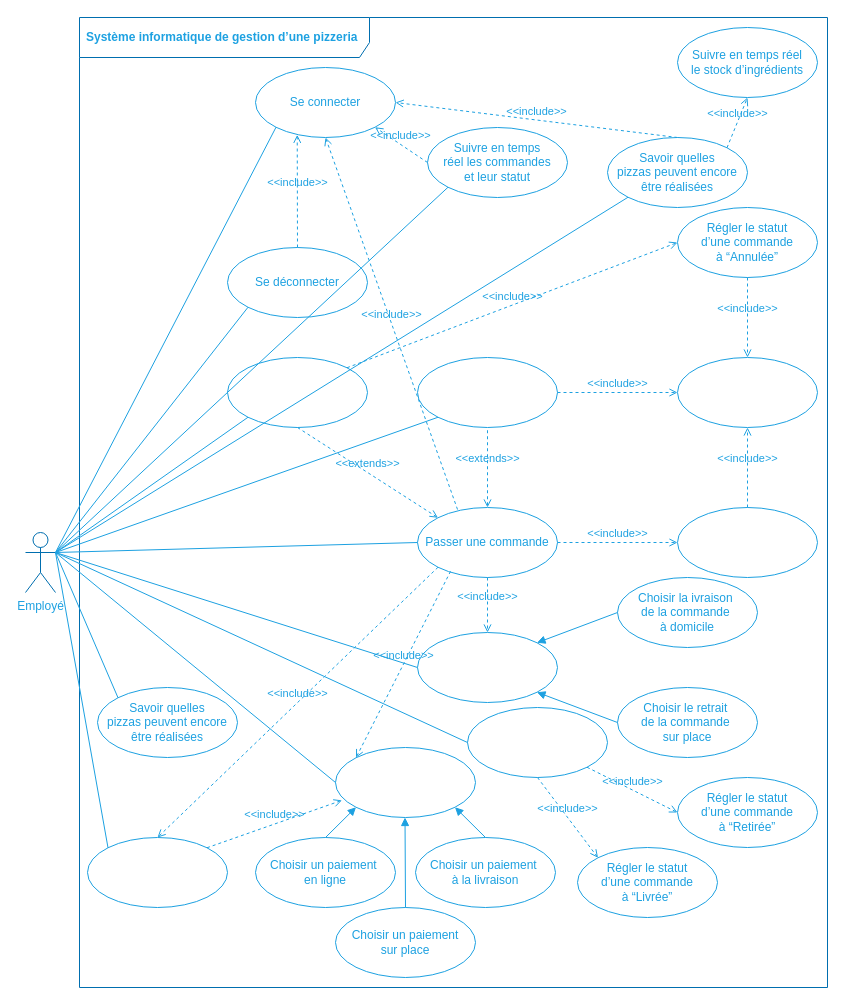
Image size: 845x1005. Some labels were removed from this diagram. The shapes that lost their labels are listed below. From the top down, each one's box as (x1, y1, x2, y2) in pixels, then its label:
(226, 356, 368, 428): Annuler une commande
(416, 356, 558, 428): Modifier une commande
(676, 356, 818, 428): Mettre à jour le stock d’ingrédiens restant
(676, 506, 818, 578): Régler le statut d’une commande à “Reçue”
(416, 632, 558, 702): Choisir le mode de livraison de la commande
(466, 706, 608, 778): Délivrer une commande
(334, 746, 476, 818): Choisir le mode de paiement
(86, 836, 228, 908): Encaisser une commande
